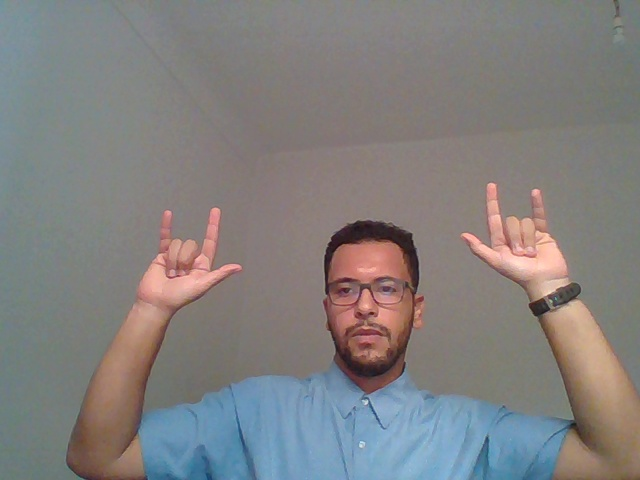iloveyou: (450, 147, 625, 457), (85, 150, 250, 419)
